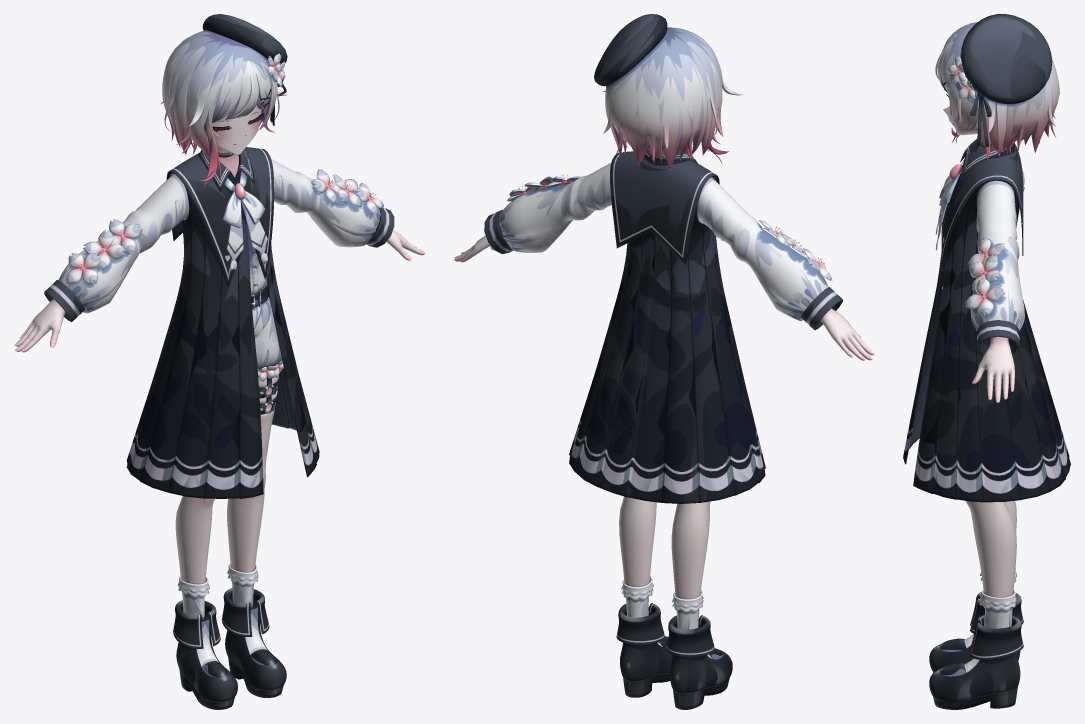
Rendered from Ema.glb.
3 renders of one model, left to right at view 1: azimuth 30°, elevation 25°; view 2: azimuth 150°, elevation 25°; view 3: azimuth 270°, elevation 25°, orthographic. The views are drawn at different scales.
Visible parts, largest first — view 1: SakurabaEma_ByPOWER_mesh; view 2: SakurabaEma_ByPOWER_mesh; view 3: SakurabaEma_ByPOWER_mesh.
Part boxes in pixels (x1,y1,x2,y2): SakurabaEma_ByPOWER_mesh: (14,14,425,709); SakurabaEma_ByPOWER_mesh: (454,14,874,709); SakurabaEma_ByPOWER_mesh: (903,14,1070,709).
Size of the model in its own units: 1.03 by 1.59 by 0.3566.
13 materials, 13 textured.
